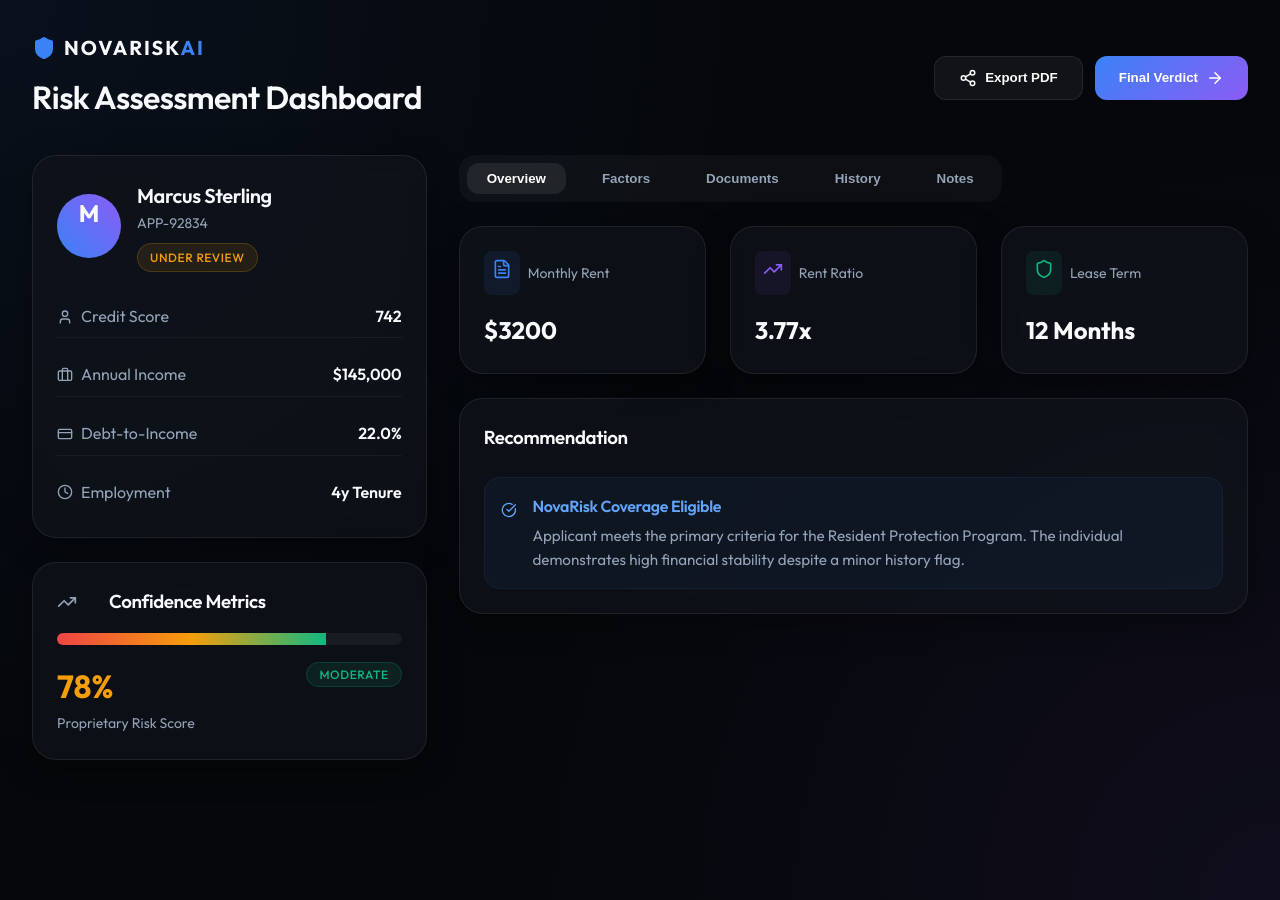
RiskAssessmentDashboard › adds a new internal note successfully
The image size is (1280, 900).
# Go to notes tab
Step 1. Click the button "notes" → point(955, 179), box x1=917 y1=163 x2=994 y2=194
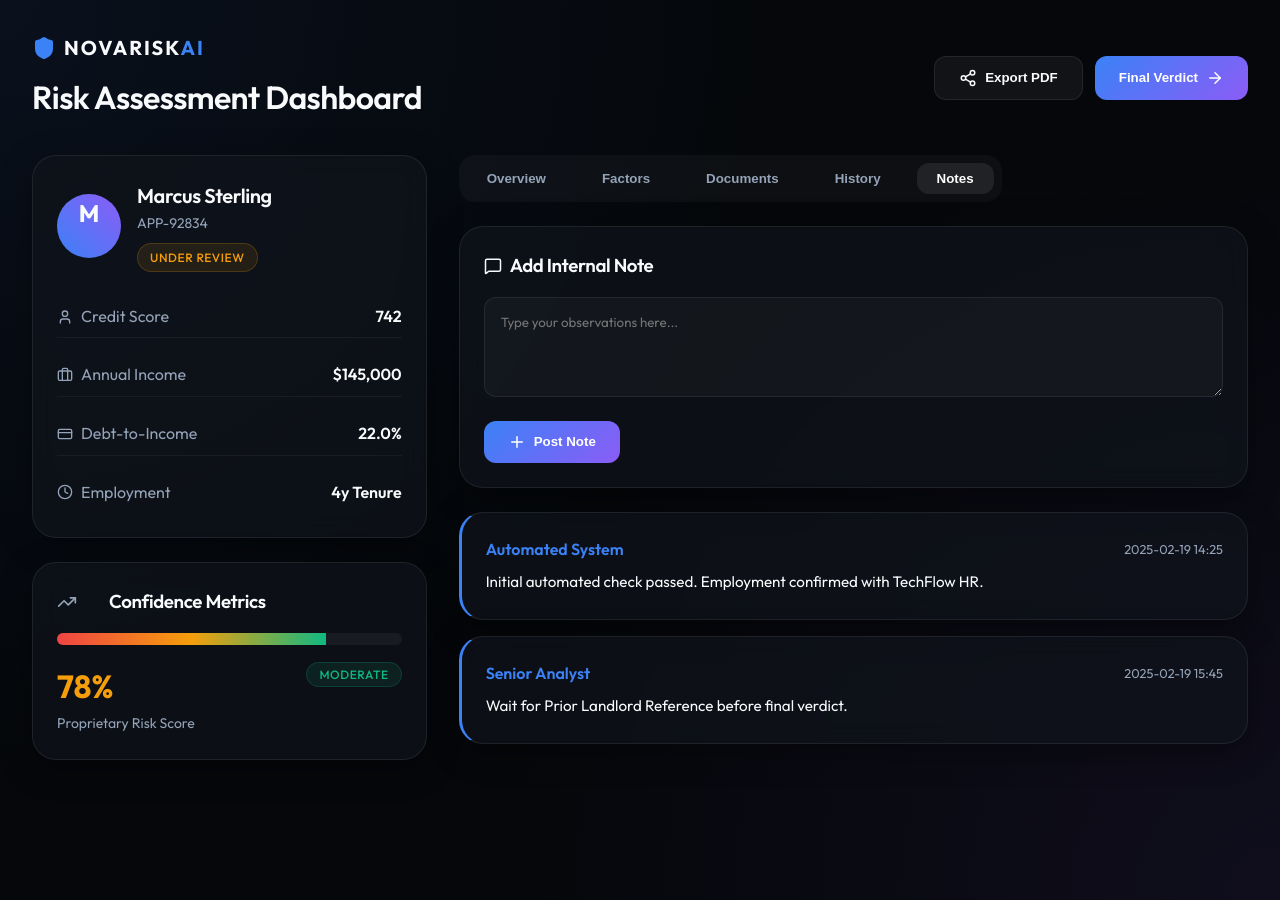
Step 2. Type "This is a test note for automation" into the text box with placeholder "Type your observations here..." → point(853, 347), box x1=484 y1=297 x2=1223 y2=397
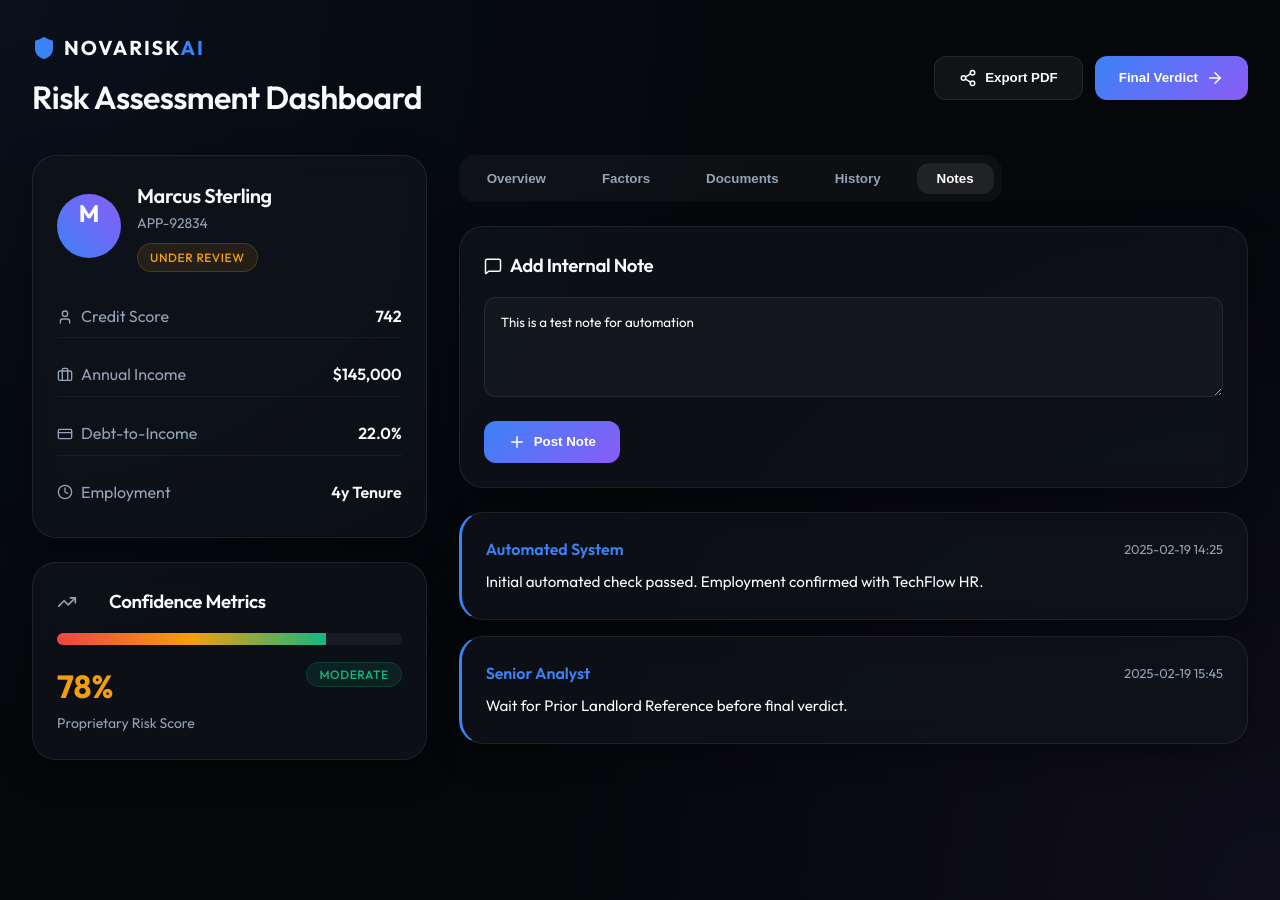
Step 3. Click the button "Post Note" → point(552, 442), box x1=484 y1=421 x2=620 y2=463
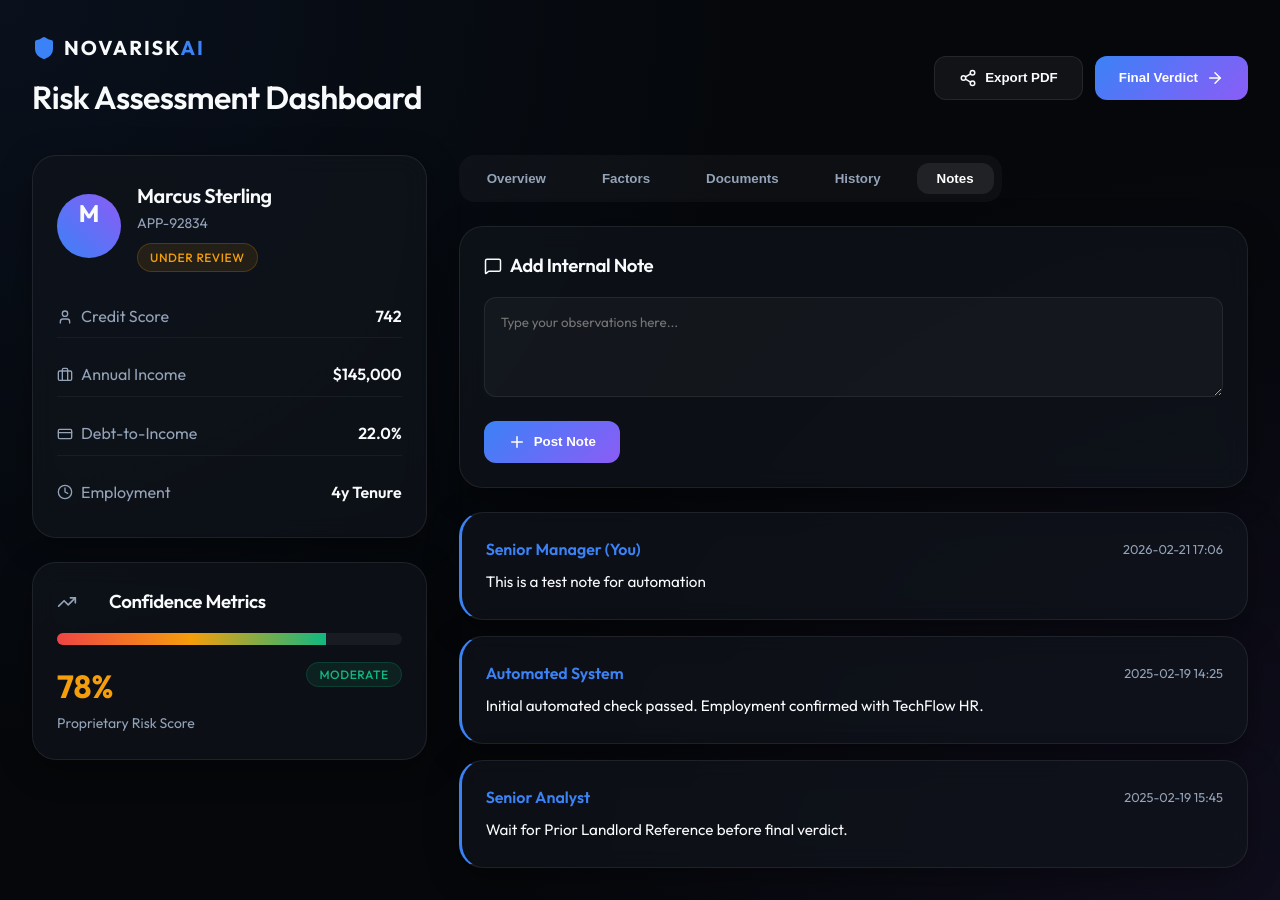
Expected: the text "This is a test note for automation" is shown, x1=486 y1=572 x2=706 y2=591
Expected: the text box with placeholder "Type your observations here..." is empty, x1=484 y1=297 x2=1223 y2=397
